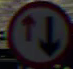Two way: (6, 5, 68, 59)
